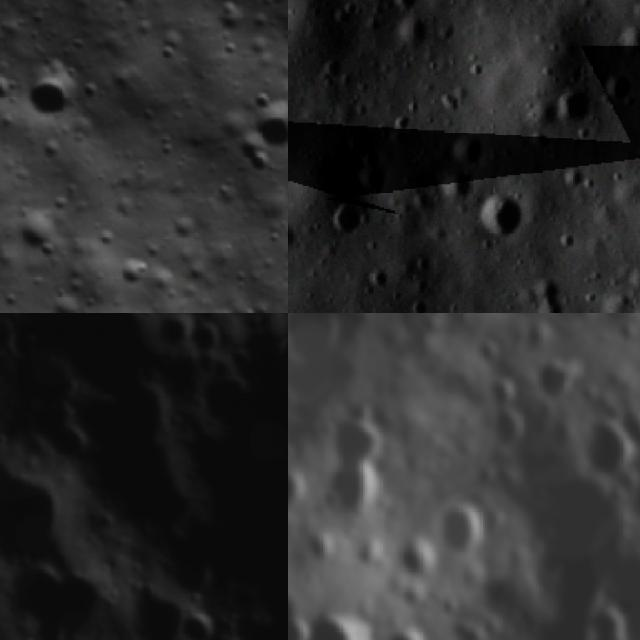crater: (0, 445, 102, 576), (0, 549, 138, 640), (0, 49, 88, 138), (0, 191, 71, 265), (322, 400, 390, 471), (232, 84, 288, 170), (466, 186, 535, 255), (328, 465, 396, 525), (288, 313, 345, 374), (549, 78, 603, 137), (581, 426, 634, 484), (321, 192, 375, 246), (296, 602, 370, 640), (182, 316, 239, 365), (106, 244, 159, 296), (433, 503, 485, 554), (590, 64, 640, 117), (169, 598, 228, 640), (526, 361, 572, 413), (432, 165, 481, 213), (444, 126, 495, 172), (387, 13, 435, 59), (527, 269, 576, 313), (348, 162, 398, 205), (603, 18, 640, 71), (479, 409, 525, 451), (4, 0, 79, 23), (357, 257, 398, 298), (553, 158, 593, 198), (478, 374, 521, 411), (470, 334, 504, 376), (539, 313, 602, 333), (355, 142, 392, 176), (0, 64, 23, 116), (520, 129, 556, 160), (398, 288, 440, 313), (386, 108, 418, 138), (382, 622, 433, 640), (614, 316, 640, 351), (288, 214, 306, 263), (385, 0, 428, 19), (621, 258, 640, 297)
